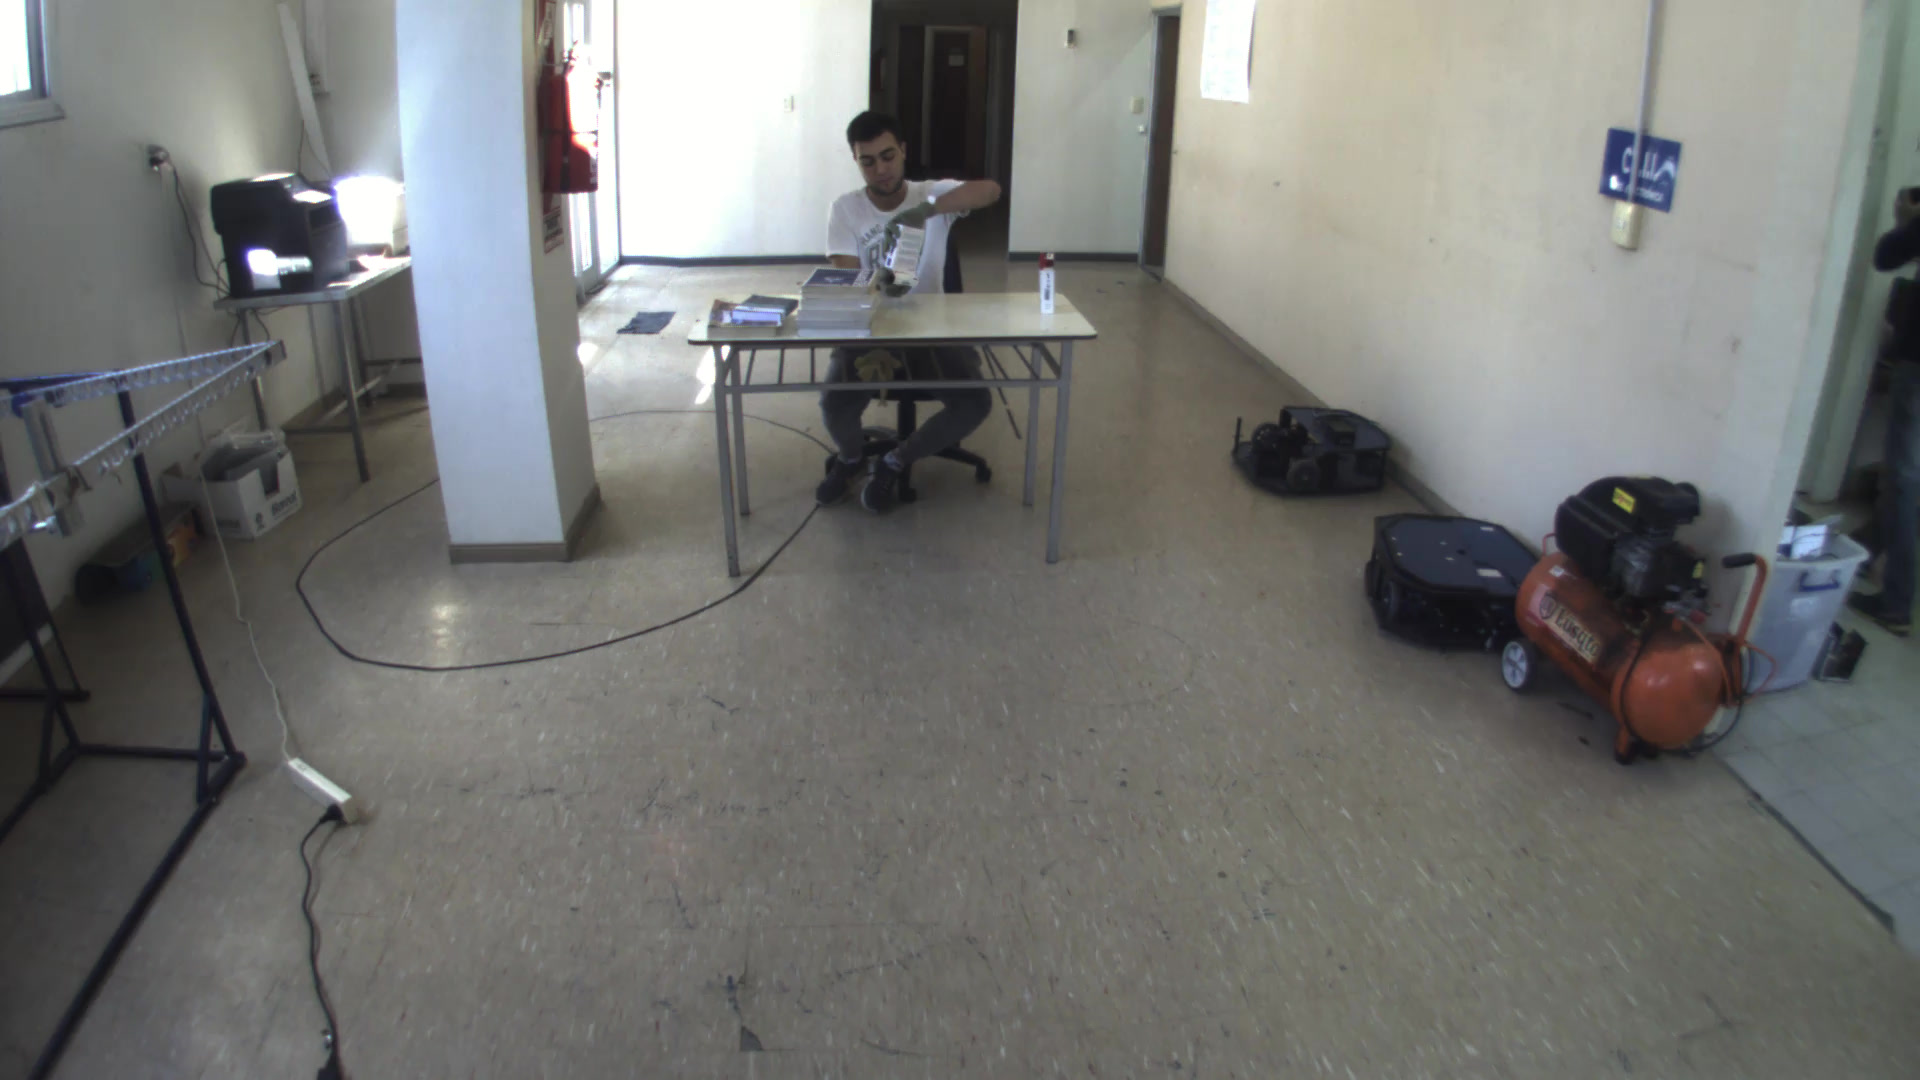hand: (876, 200, 942, 249), (868, 261, 909, 302)
